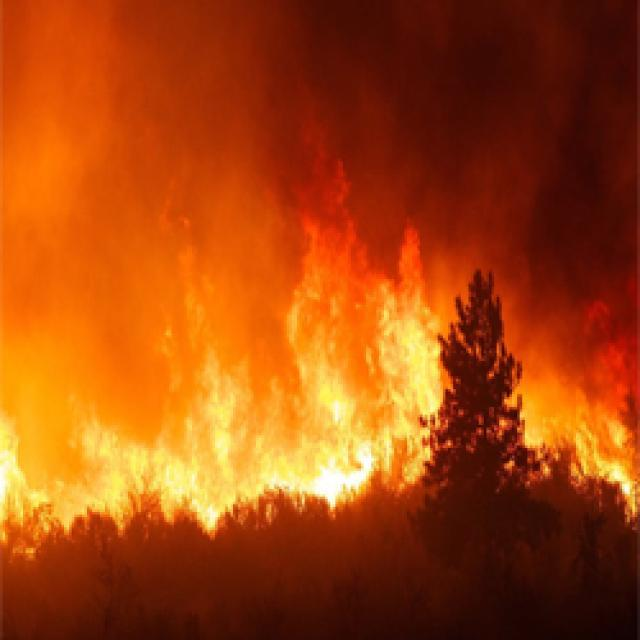Fire: (0, 326, 282, 546), (260, 234, 467, 516), (516, 324, 640, 556)
Smoke: (0, 0, 432, 357), (417, 0, 636, 370)
